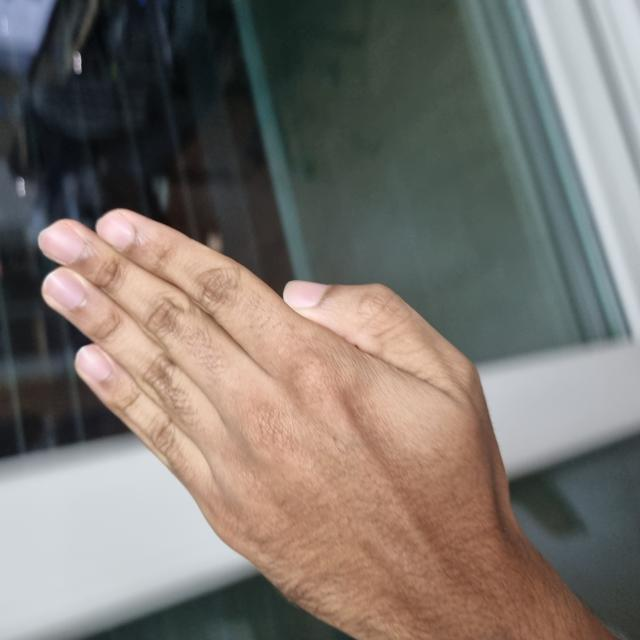Paper: (0, 39, 430, 506)
